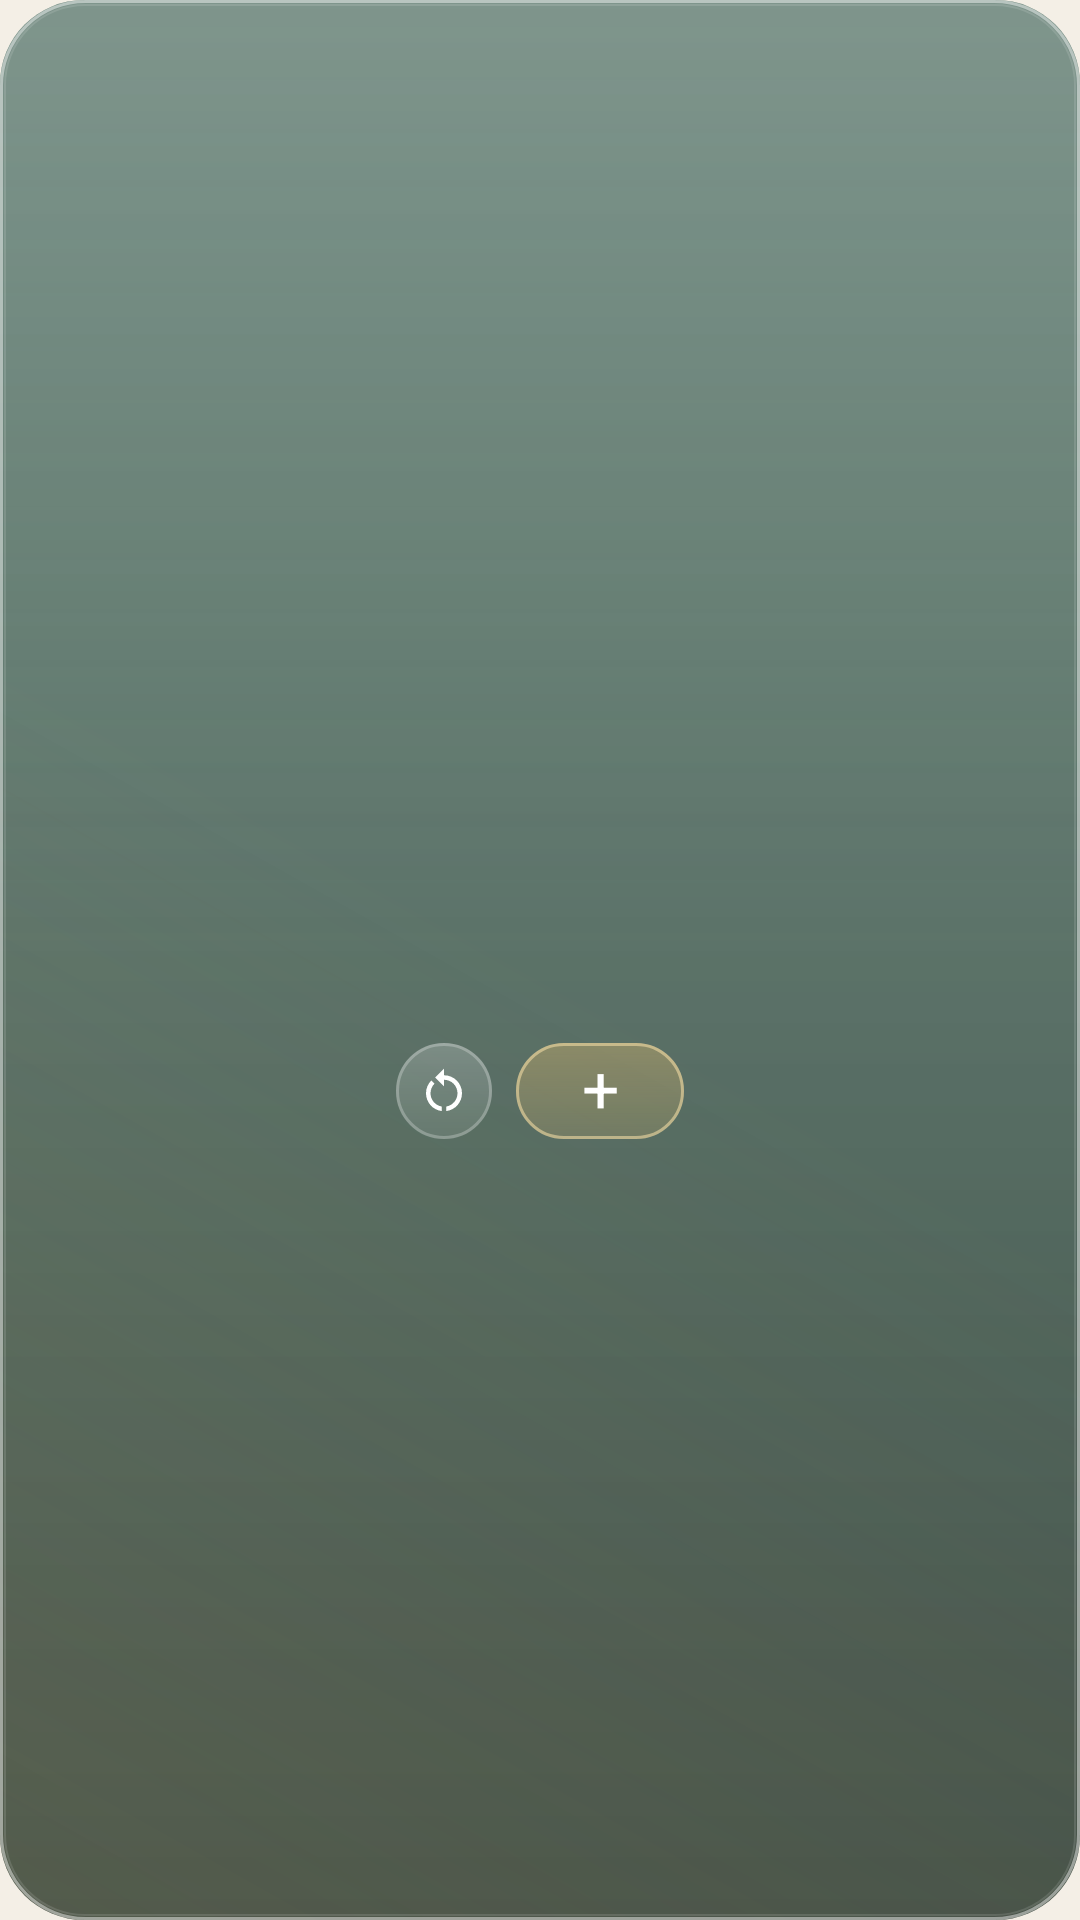

Where icons sit on this 1080 × 1920 app screen, as region(x1, y1, x2, y2):
Reset: region(396, 1043, 492, 1139)
